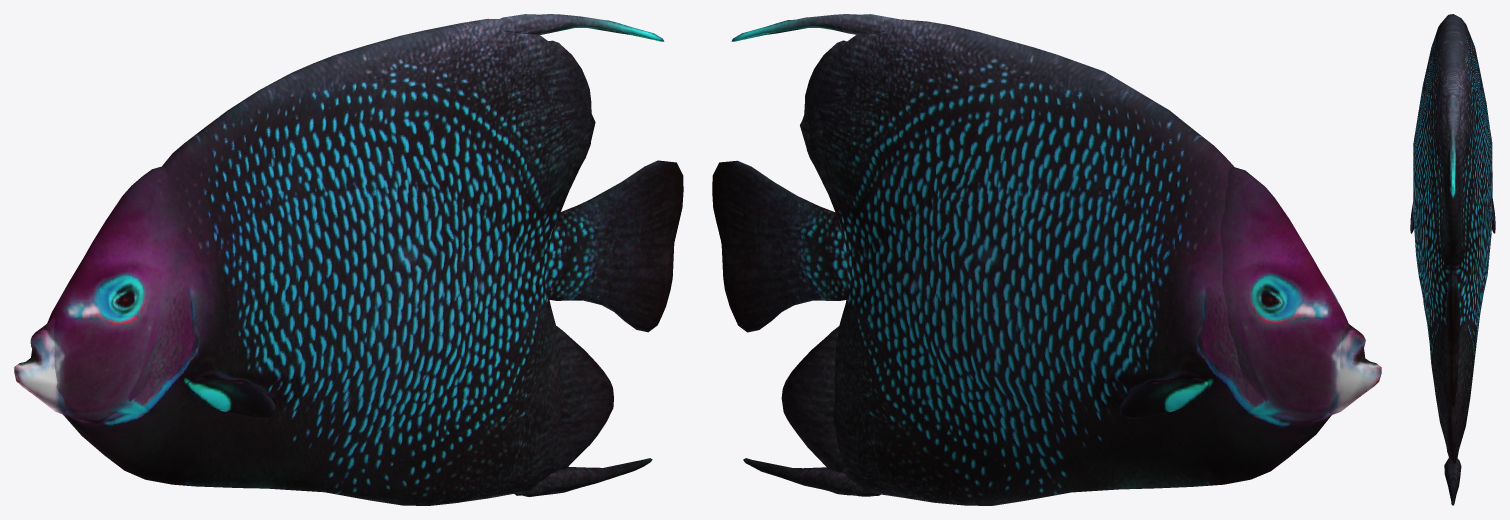
The model's file is pez_angel.fbx.
The picture shows the model from 3 angles, left to right: view 1: azimuth 30°, elevation 25°; view 2: azimuth 150°, elevation 25°; view 3: azimuth 270°, elevation 25°; orthographic projection. The views are drawn at different scales.
Parts seen in each view (by area): view 1: model; view 2: model; view 3: model.
Part boxes in pixels (<box>): model: <box>14,14,683,505</box>; model: <box>712,14,1381,505</box>; model: <box>1410,14,1495,505</box>.
Bounding box in the file's own units: 3568 × 2518 × 529.
Materials: 1 (1 with a texture image).
